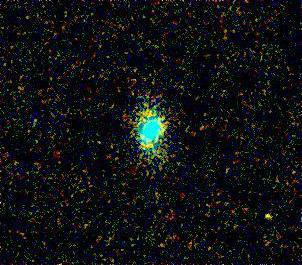star: (254, 201, 284, 231)
